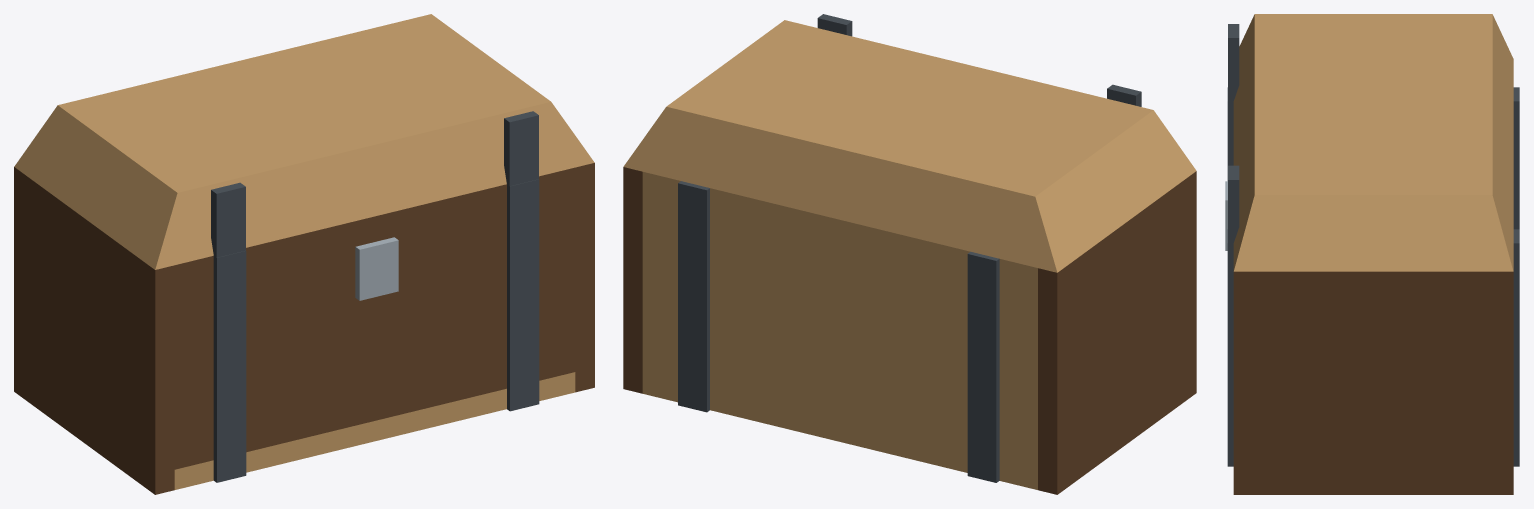
File: GI_Chest_01.glb
3 renders of one model, left to right at view 1: azimuth 30°, elevation 25°; view 2: azimuth 150°, elevation 25°; view 3: azimuth 270°, elevation 25°, orthographic.
Parts seen in each view (by area): view 1: GI_Chest_01, Lid; view 2: GI_Chest_01, Lid; view 3: Lid, GI_Chest_01.
Part boxes in pixels (<box>): GI_Chest_01: <box>14,163,594,494</box>; Lid: <box>14,14,594,269</box>; GI_Chest_01: <box>623,167,1196,494</box>; Lid: <box>623,14,1196,272</box>; Lid: <box>1228,14,1513,271</box>; GI_Chest_01: <box>1225,87,1519,494</box>.
Bounding box in the file's own units: 0.9 × 0.565 × 0.526.
Materials: 1 (1 with a texture image).
